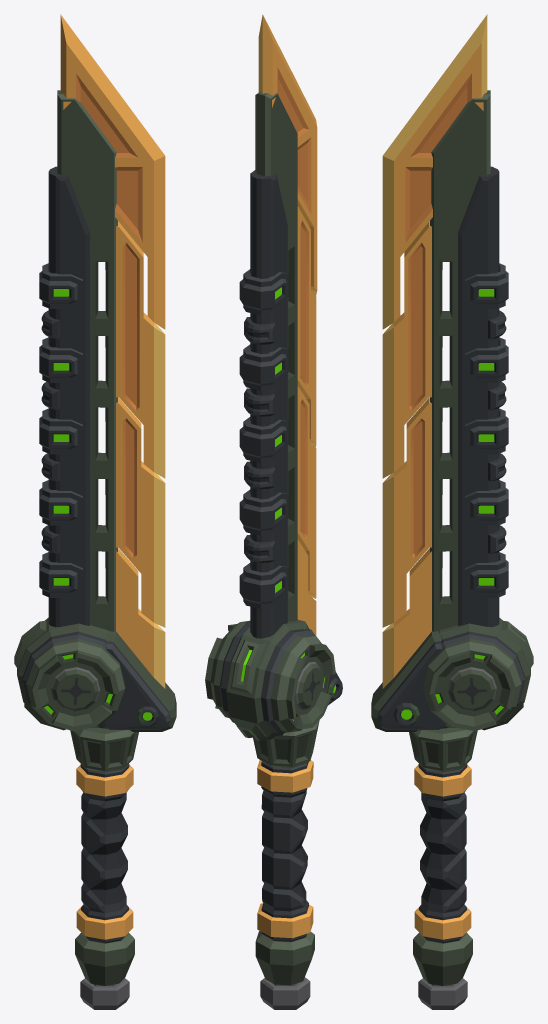
Rendered from SM_Wep_Sword_01.fbx.
3 renders of one model, left to right at view 1: azimuth 90°, elevation 25°; view 2: azimuth 150°, elevation 25°; view 3: azimuth 270°, elevation 25°, orthographic.
Visible parts, largest first — view 1: SM_Wep_Sword_01; view 2: SM_Wep_Sword_01; view 3: SM_Wep_Sword_01.
Part boxes in pixels (<box>): SM_Wep_Sword_01: <box>14,14,176,1009</box>; SM_Wep_Sword_01: <box>205,14,342,1009</box>; SM_Wep_Sword_01: <box>371,14,533,1009</box>.
Bounding box in the file's own units: 37.6 × 414 × 61.64.
